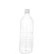plastic: (21, 6, 35, 53)
